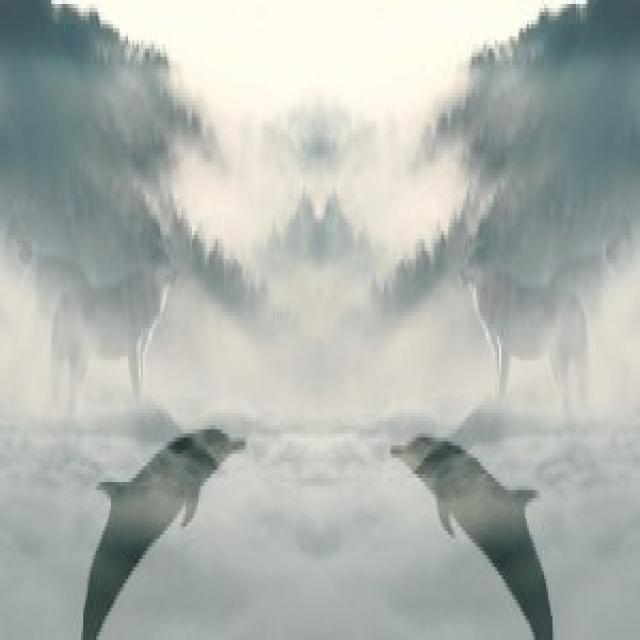Dolphin: (68, 413, 249, 640), (388, 411, 561, 638)
